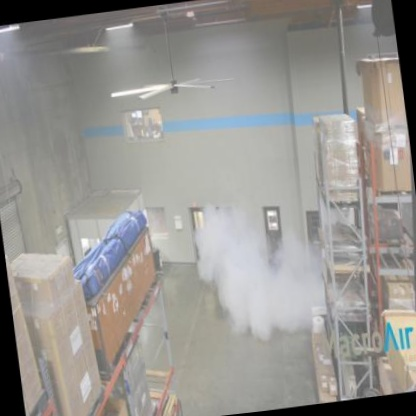smoke: (192, 198, 313, 335)
